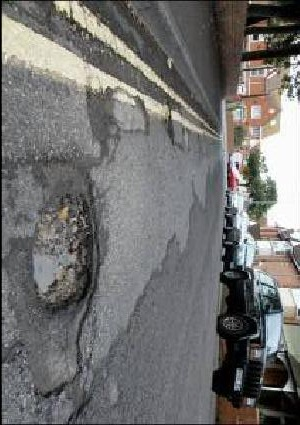pothole: (29, 186, 99, 314)
